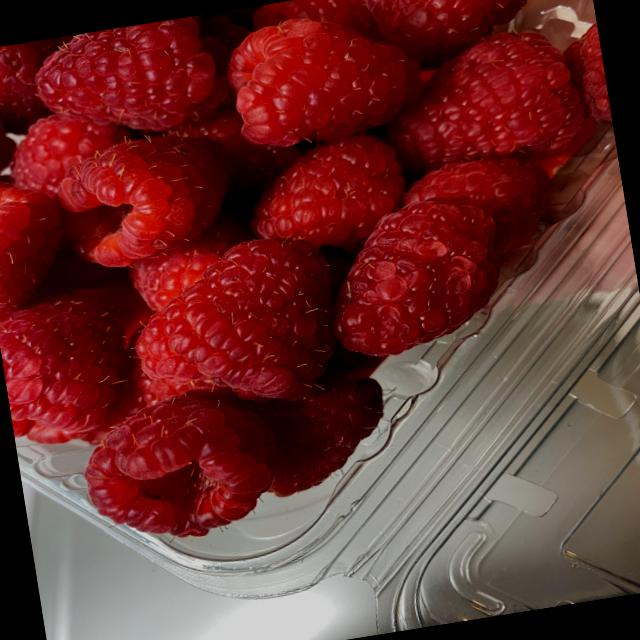raspberries: (0, 0, 614, 556)
